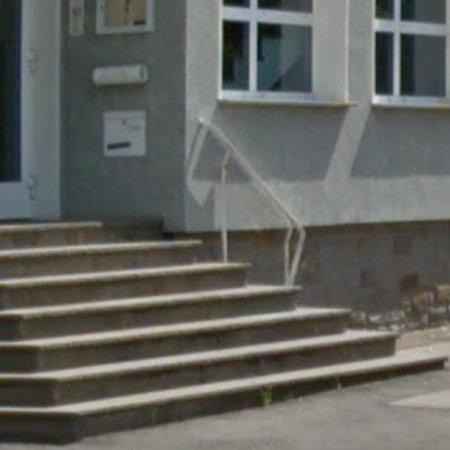stairs: (0, 222, 448, 442)
